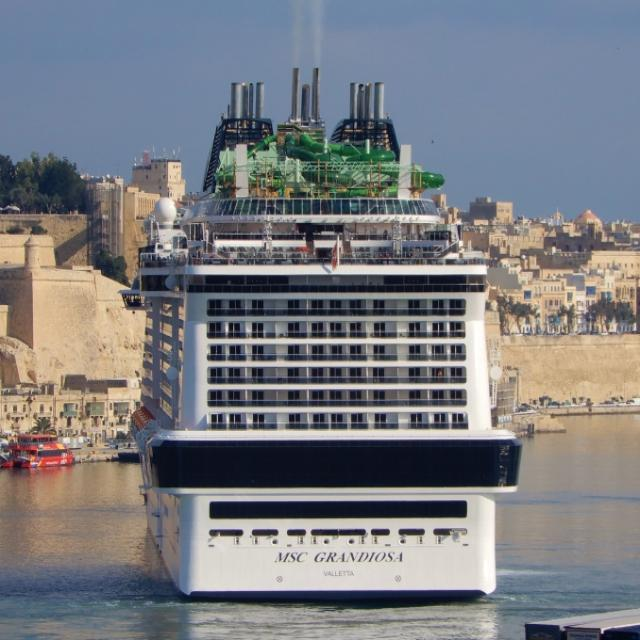cruises: (125, 128, 525, 616)
